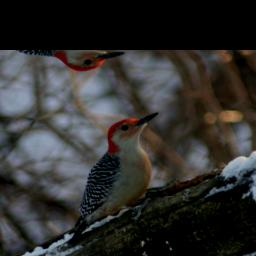Woodpecker: (20, 107, 208, 244)
